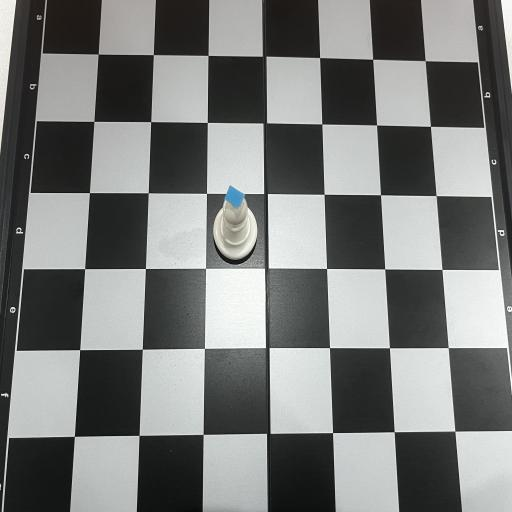White bishop: (214, 186, 258, 260)
